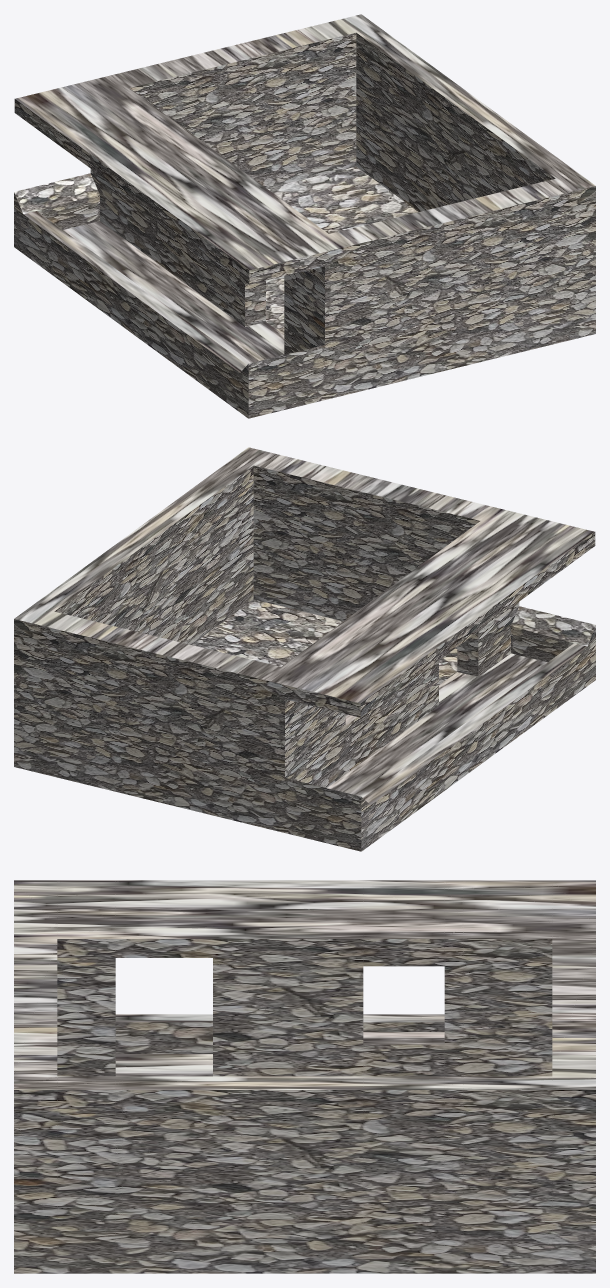
File: interior.fbx
3 renders of one model, top to bottom at view 1: azimuth 30°, elevation 25°; view 2: azimuth 150°, elevation 25°; view 3: azimuth 270°, elevation 25°, orthographic. The views are drawn at different scales.
Parts seen in each view (by area): view 1: Interior; view 2: Interior; view 3: Interior.
Boxes of the visible parts, left/top/right/bottom form: Interior: left=14, top=14, right=595, bottom=418; Interior: left=14, top=447, right=595, bottom=851; Interior: left=14, top=880, right=595, bottom=1273.
Size of the model in its own units: 1539 by 627 by 1800.
